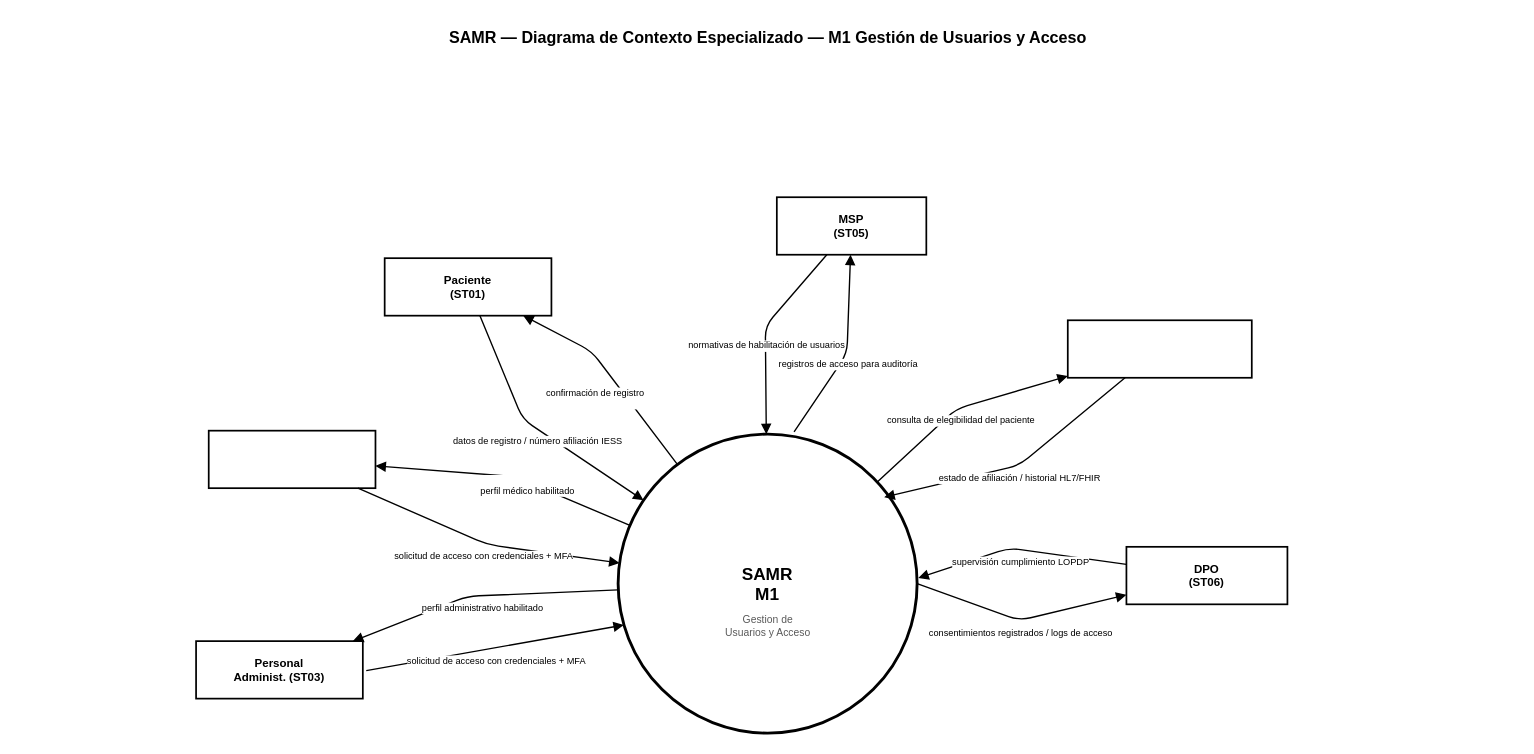
Some shapes in this 1534 by 754 pixel diagram are drawn without their labels. The centre of each missing label's shape, as x and y in pixels:
API IESS / Red Salud Pública: the point at 1159,348
Personal Médico (ST02): the point at 291,459
